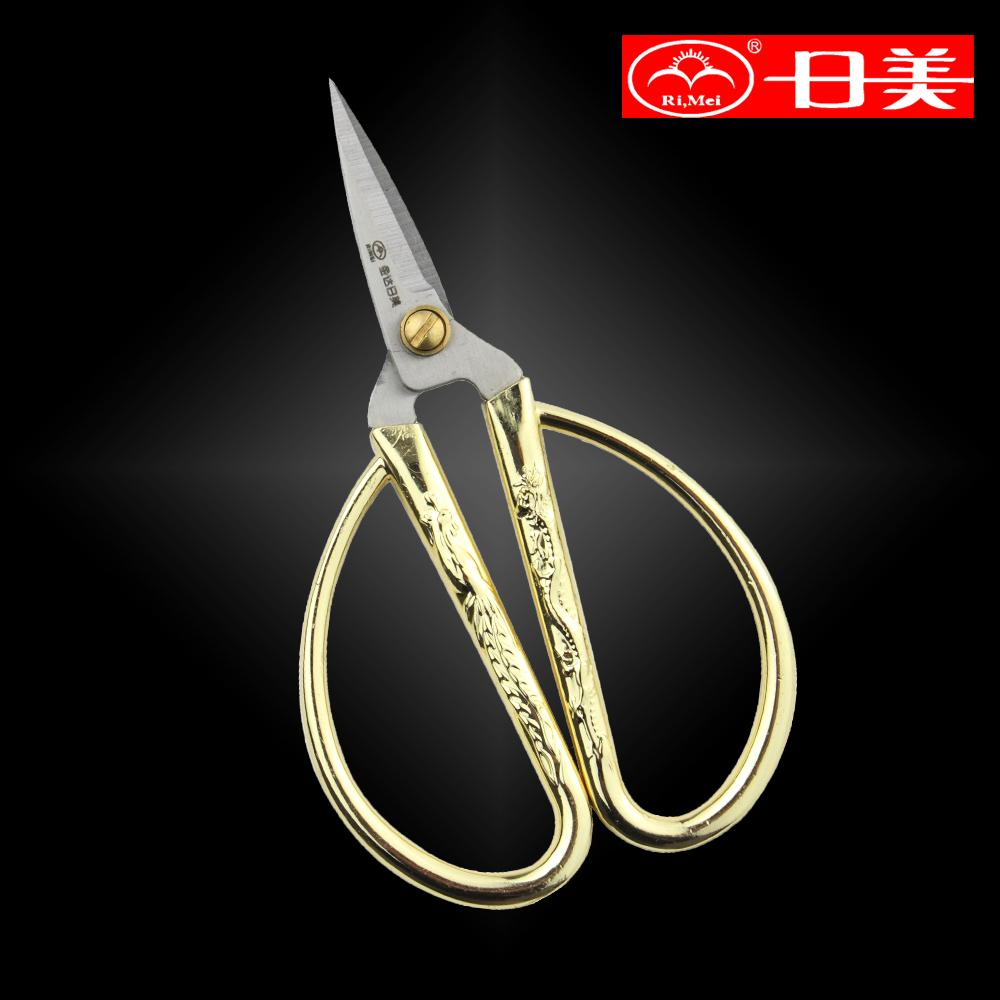scissor: (223, 52, 819, 928)
